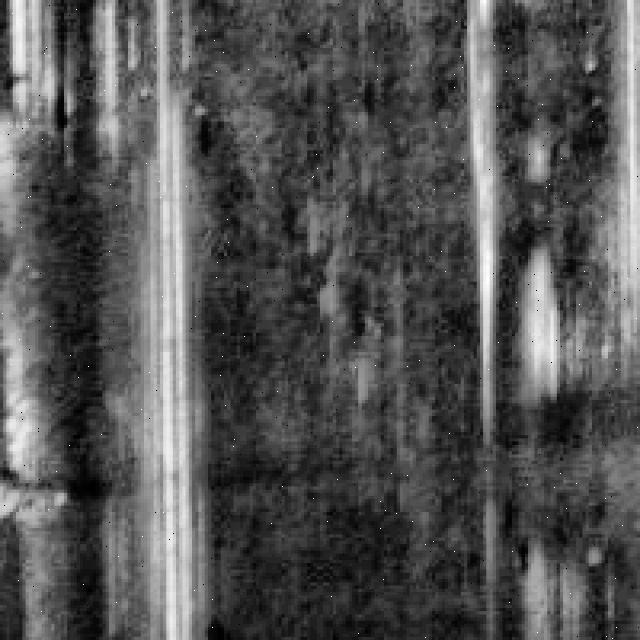Inclusion: (131, 83, 224, 637), (460, 0, 516, 435)
